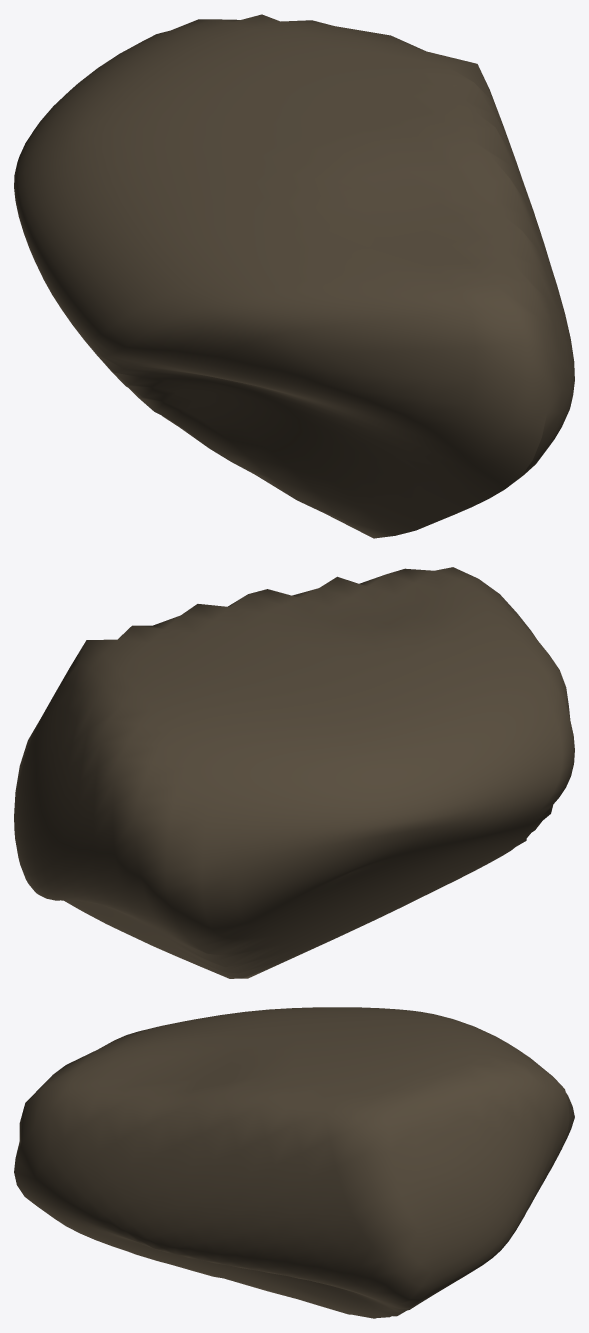
The model's file is LittleStone.fbx.
The picture shows the model from 3 angles, top to bottom: view 1: azimuth 30°, elevation 25°; view 2: azimuth 150°, elevation 25°; view 3: azimuth 270°, elevation 25°; orthographic projection. The views are drawn at different scales.
Parts seen in each view (by area): view 1: Stone2; view 2: Stone2; view 3: Stone2.
Part boxes in pixels (left/top/right/bottom): Stone2: left=14, top=14, right=574, bottom=538; Stone2: left=14, top=567, right=574, bottom=978; Stone2: left=14, top=1007, right=574, bottom=1318.
Size of the model in its own units: 106 by 72.73 by 144.
